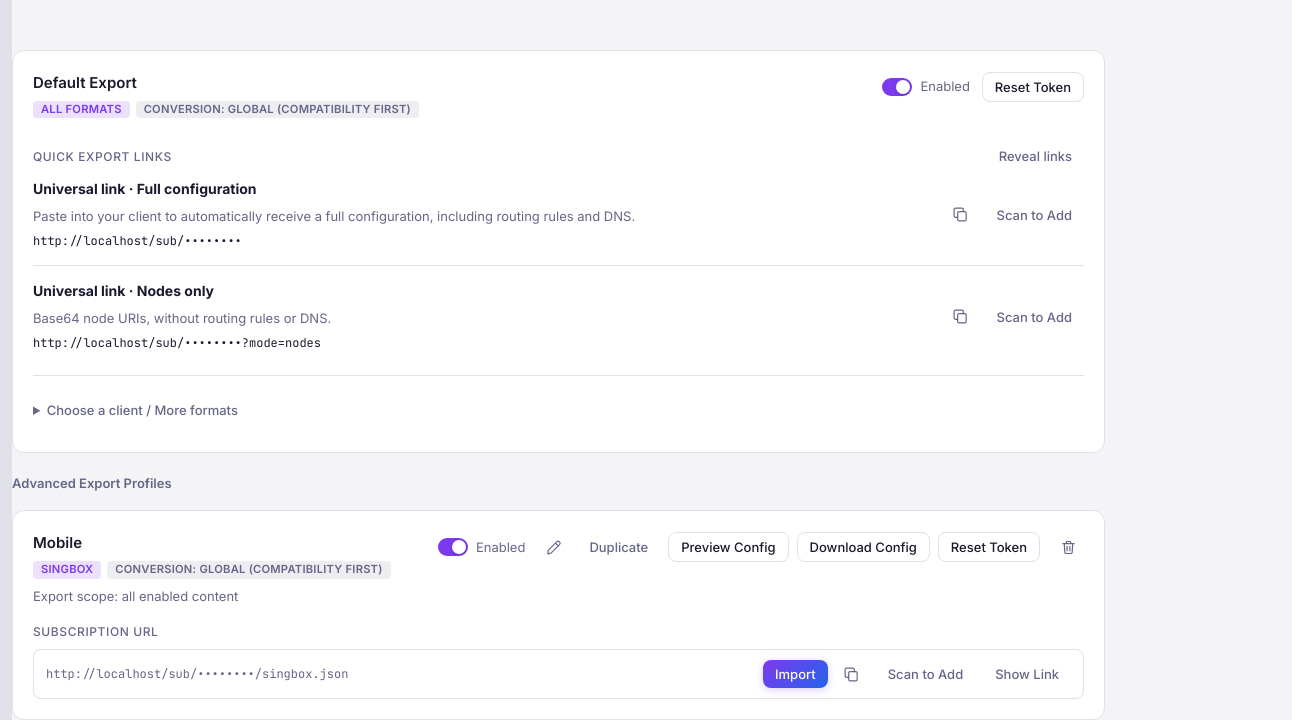
it: Export › reveals and hides a subscription URL without a confirmation step
This screenshot has width=1292, height=720.
(page scrolled)
Expected: the text "mobile-token" is not shown
What coordinates should you click on to do the following:
click the button "Show Link"
I would click on:
 (1027, 674)
Its box is [983,660,1071,688].
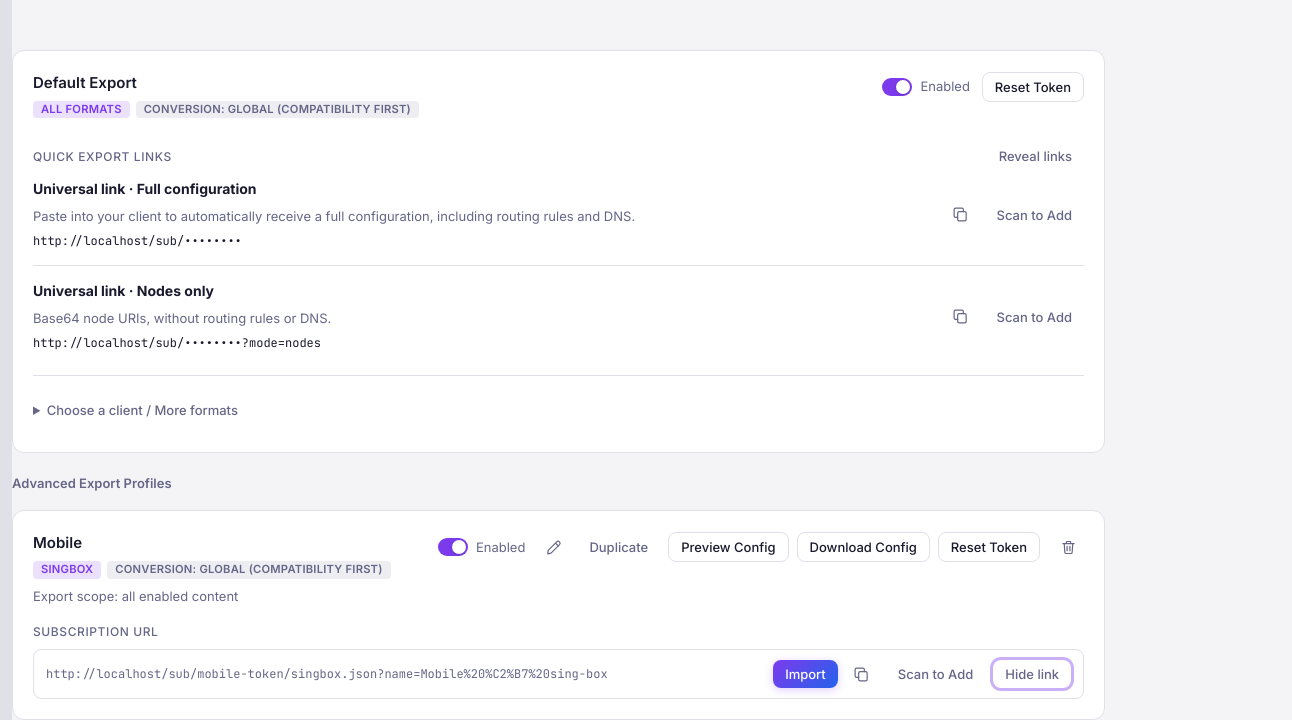
Result: the text "mobile-token" is shown at [46,666,608,682]
What coordinates should you click on to do the following:
click the button "Hide link"
I would click on:
 (1032, 674)
Its box is [993,660,1071,688].
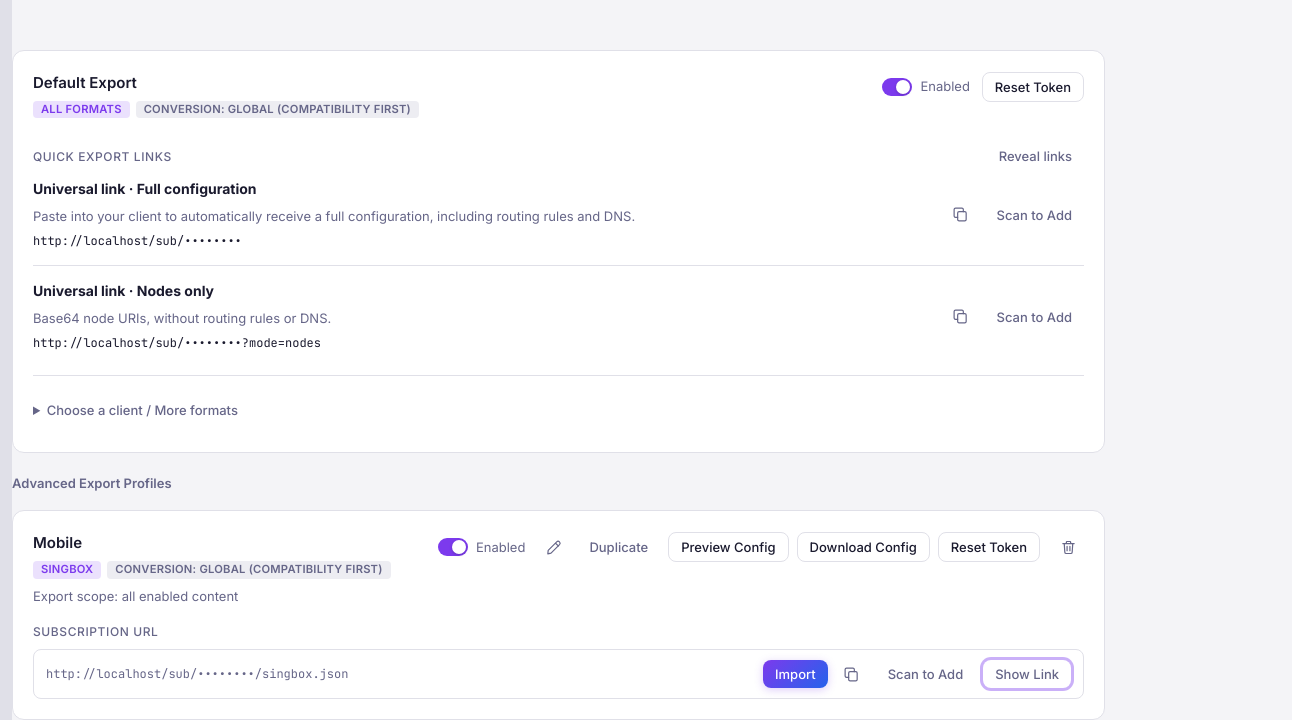
Result: the text "mobile-token" is gone
